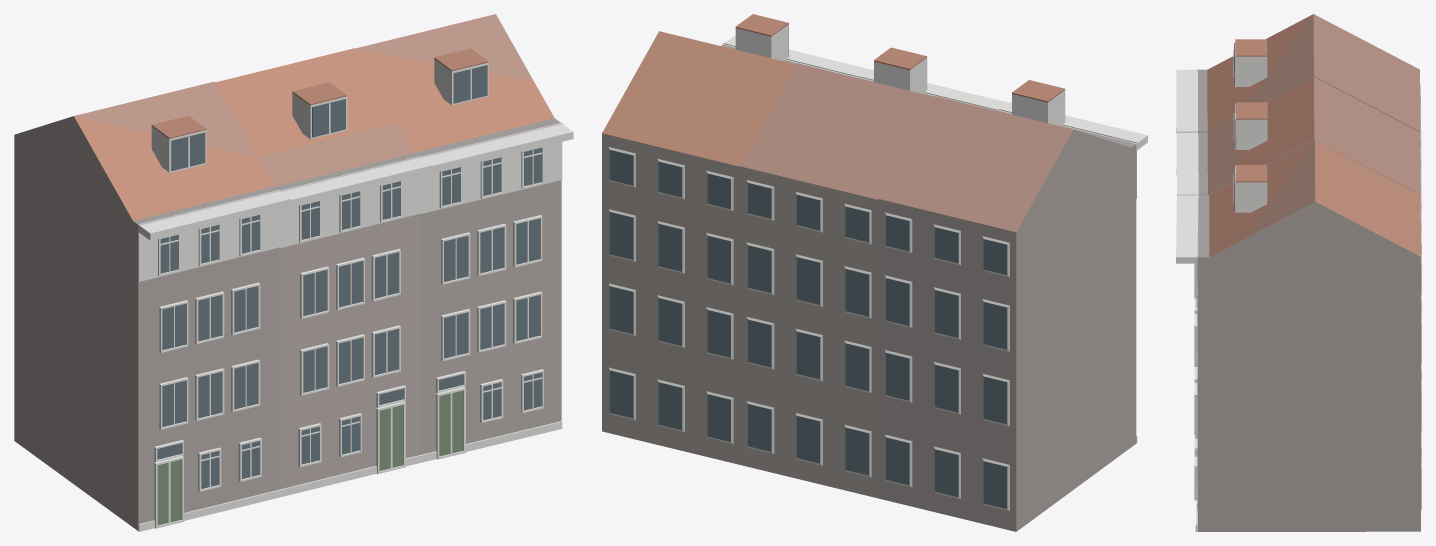
Rendered from chunk-face-gorontalo-25-47-r2.glb.
3 renders of one model, left to right at view 1: azimuth 30°, elevation 25°; view 2: azimuth 150°, elevation 25°; view 3: azimuth 270°, elevation 25°, orthographic. The views are drawn at different scales.
Parts seen in each view (by area): view 1: face-gorontalo-25-47-r2; view 2: face-gorontalo-25-47-r2; view 3: face-gorontalo-25-47-r2.
Boxes of the visible parts, x1,y1,x2,y2 form: face-gorontalo-25-47-r2: (14, 14, 573, 531); face-gorontalo-25-47-r2: (602, 14, 1147, 531); face-gorontalo-25-47-r2: (1176, 14, 1421, 531).
Size of the model in its own units: 18.44 by 15.32 by 10.29.
